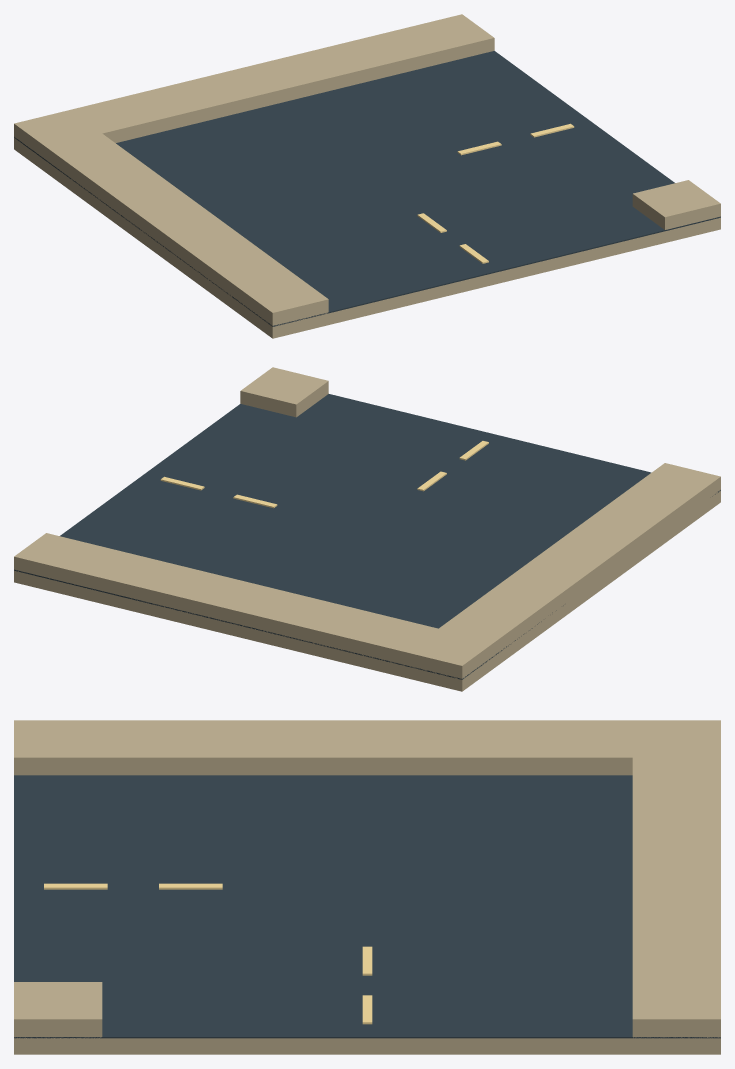
File: road_corner.glb
3 renders of one model, top to bottom at view 1: azimuth 30°, elevation 25°; view 2: azimuth 150°, elevation 25°; view 3: azimuth 270°, elevation 25°, orthographic. The views are drawn at different scales.
Parts seen in each view (by area): view 1: asphalt, closed_edge, closed_edge.001, tile, corner_pavement, corner_pavement.002, corner_pavement.003, corner_pavement.001; view 2: asphalt, closed_edge, closed_edge.001, tile, corner_pavement.001, corner_pavement.002, corner_pavement.003, corner_pavement; view 3: asphalt, closed_edge.001, closed_edge, tile, corner_pavement, corner_pavement.002, corner_pavement.003, corner_pavement.001.
Part boxes in pixels (x1=…): asphalt: x1=14, y1=51, x2=720, y2=326; closed_edge: x1=70, y1=28, x2=438, y2=143; closed_edge.001: x1=46, y1=133, x2=295, y2=302; tile: x1=14, y1=138, x2=720, y2=338; corner_pavement: x1=240, y1=275, x2=328, y2=326; corner_pavement.002: x1=632, y1=180, x2=720, y2=229; corner_pavement.003: x1=406, y1=14, x2=494, y2=64; corner_pavement.001: x1=14, y1=110, x2=101, y2=159; asphalt: x1=14, y1=394, x2=720, y2=679; closed_edge: x1=70, y1=546, x2=437, y2=665; closed_edge.001: x1=439, y1=486, x2=688, y2=655; tile: x1=14, y1=491, x2=720, y2=691; corner_pavement.001: x1=406, y1=628, x2=494, y2=679; corner_pavement.002: x1=240, y1=367, x2=328, y2=417; corner_pavement.003: x1=14, y1=533, x2=101, y2=583; corner_pavement: x1=633, y1=463, x2=720, y2=513; asphalt: x1=14, y1=775, x2=720, y2=1038; closed_edge.001: x1=102, y1=720, x2=632, y2=775; closed_edge: x1=632, y1=757, x2=720, y2=981; tile: x1=14, y1=1038, x2=720, y2=1054; corner_pavement: x1=14, y1=720, x2=102, y2=775; corner_pavement.002: x1=14, y1=982, x2=102, y2=1038; corner_pavement.003: x1=632, y1=982, x2=720, y2=1037; corner_pavement.001: x1=632, y1=720, x2=720, y2=757.
Bounding box in the file's own units: 4 × 0.22 × 4.
